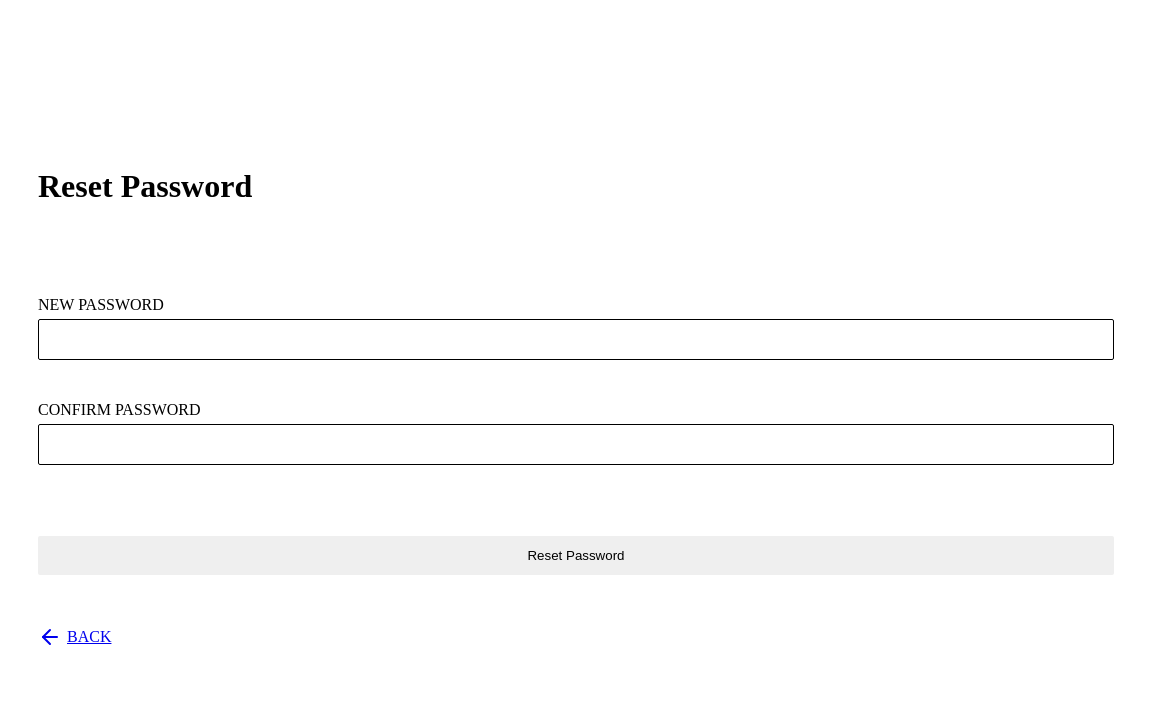
it: should display form errors
Click the button "Reset Password".
click(576, 556)  # box x1=38 y1=536 x2=1114 y2=575
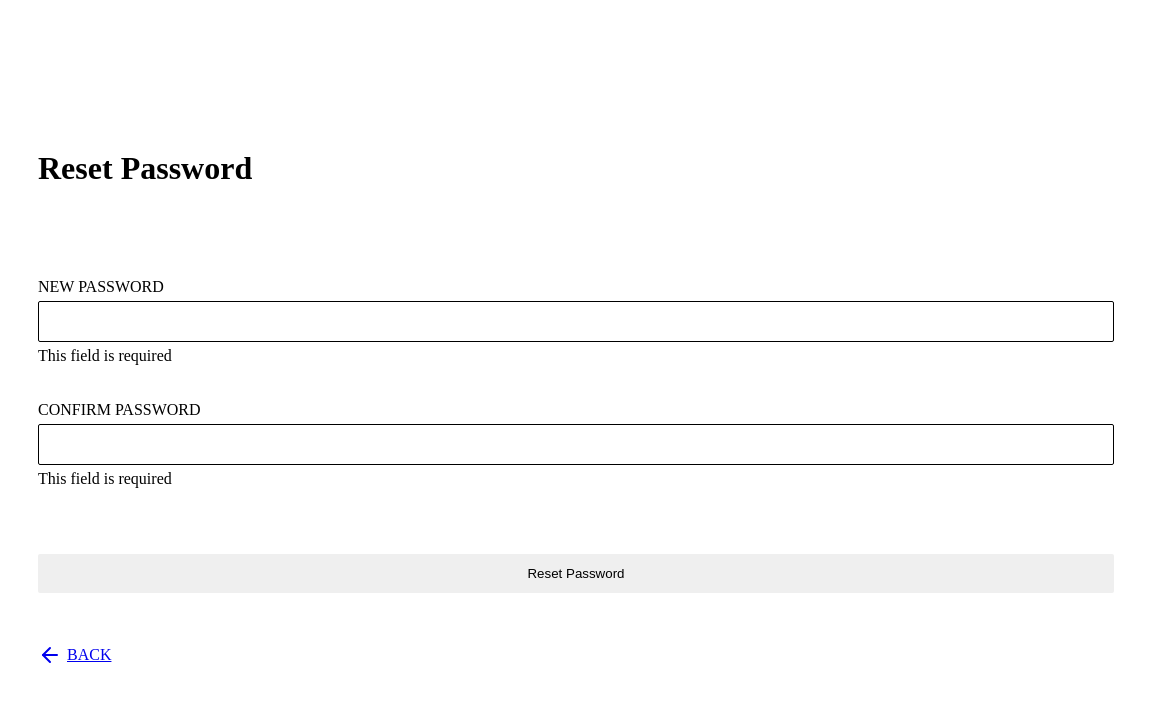
Expected: the text "This field is required" is shown 2 times, x1=38 y1=347 x2=172 y2=364; x1=38 y1=470 x2=172 y2=487
